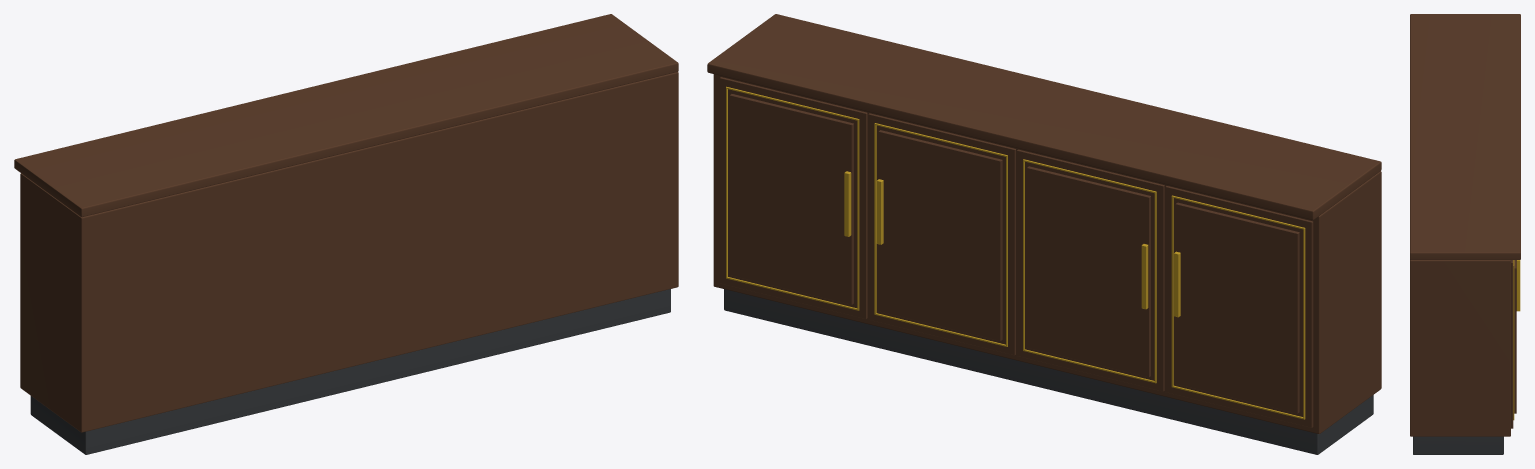
The model's file is prop_credenza_w200_d40.glb.
3 renders of one model, left to right at view 1: azimuth 30°, elevation 25°; view 2: azimuth 150°, elevation 25°; view 3: azimuth 270°, elevation 25°, orthographic. The views are drawn at different scales.
Parts seen in each view (by area): view 1: Cabinet; view 2: Cabinet; view 3: Cabinet.
Part boxes in pixels (x1,y1,x2,y2): Cabinet: [14, 14, 678, 454]; Cabinet: [707, 14, 1381, 454]; Cabinet: [1410, 14, 1520, 454].
Size of what is drawn, in the model's own units: 1.99 by 0.795 by 0.39.
